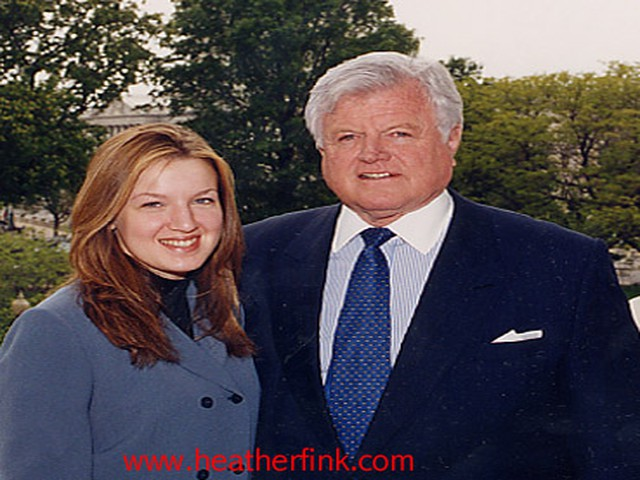Person: (1, 53, 640, 472)
